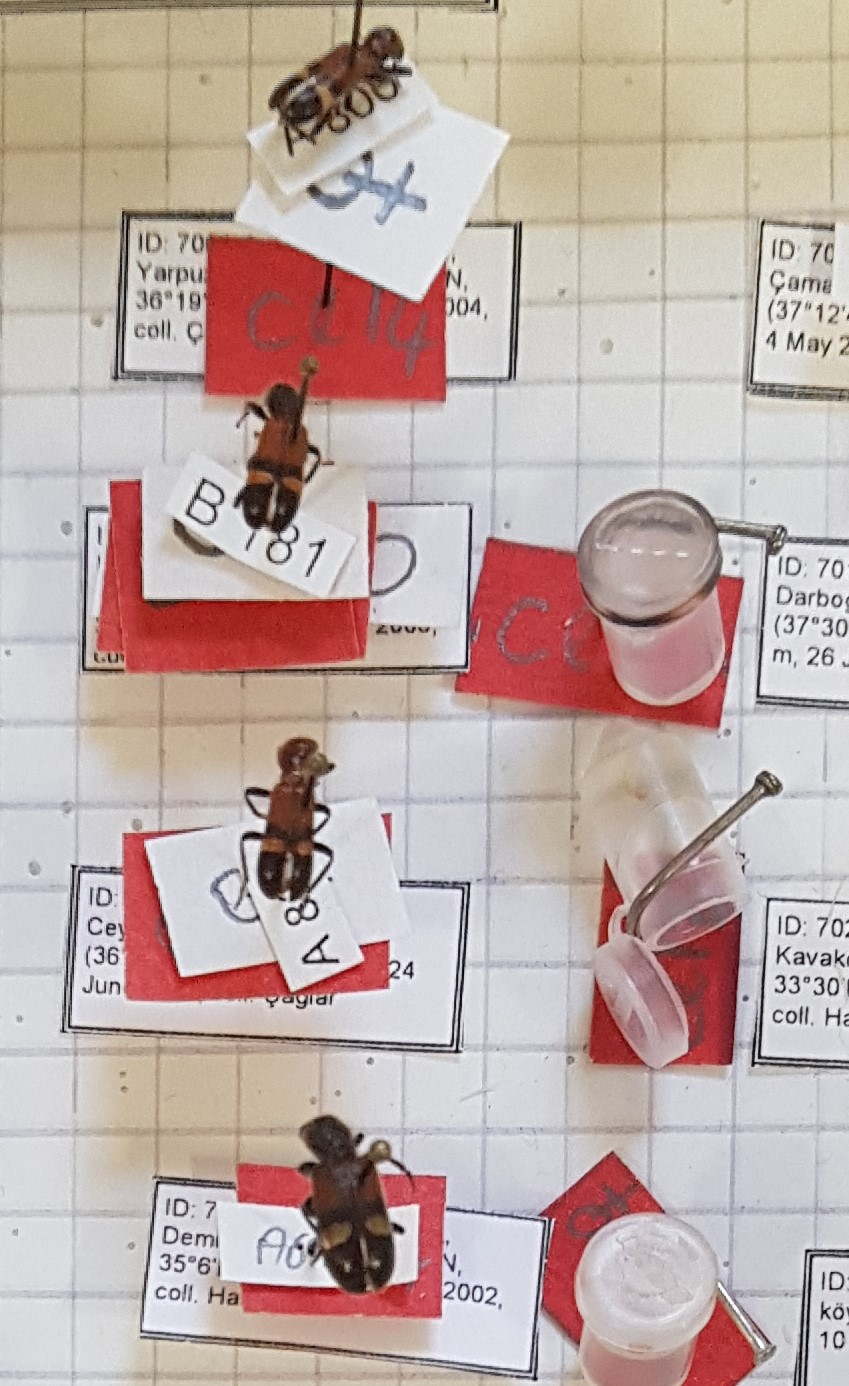opilo_taeniatus: (293, 1108, 423, 1303), (245, 1, 416, 136), (236, 728, 333, 916), (243, 371, 312, 538)
